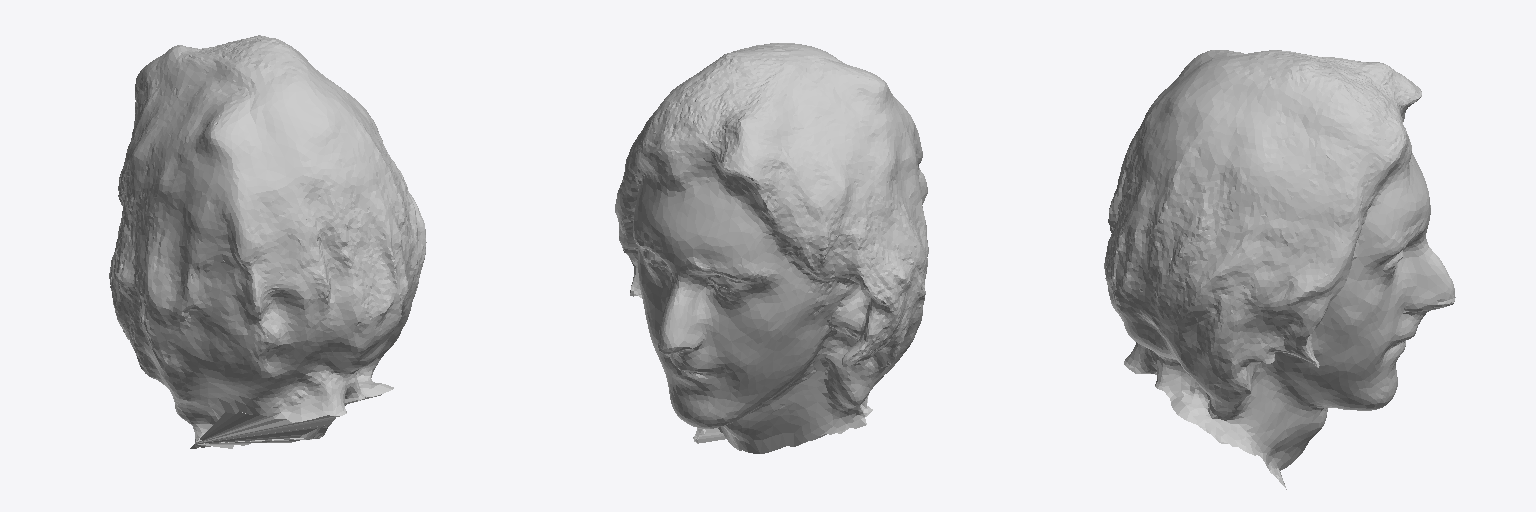
Rendered from HeadTom.obj.
The picture shows the model from 3 angles: view 1: azimuth 30°, elevation 25°; view 2: azimuth 150°, elevation 25°; view 3: azimuth 270°, elevation 25°; orthographic projection.
Parts seen in each view (by area): view 1: Mesh_0; view 2: Mesh_0; view 3: Mesh_0.
Part boxes in pixels (x1,y1,x2,y2): Mesh_0: (109, 35, 426, 448); Mesh_0: (615, 43, 928, 453); Mesh_0: (1104, 50, 1455, 489).
Bounding box in the file's own units: 3.3 × 4.62 × 3.65.